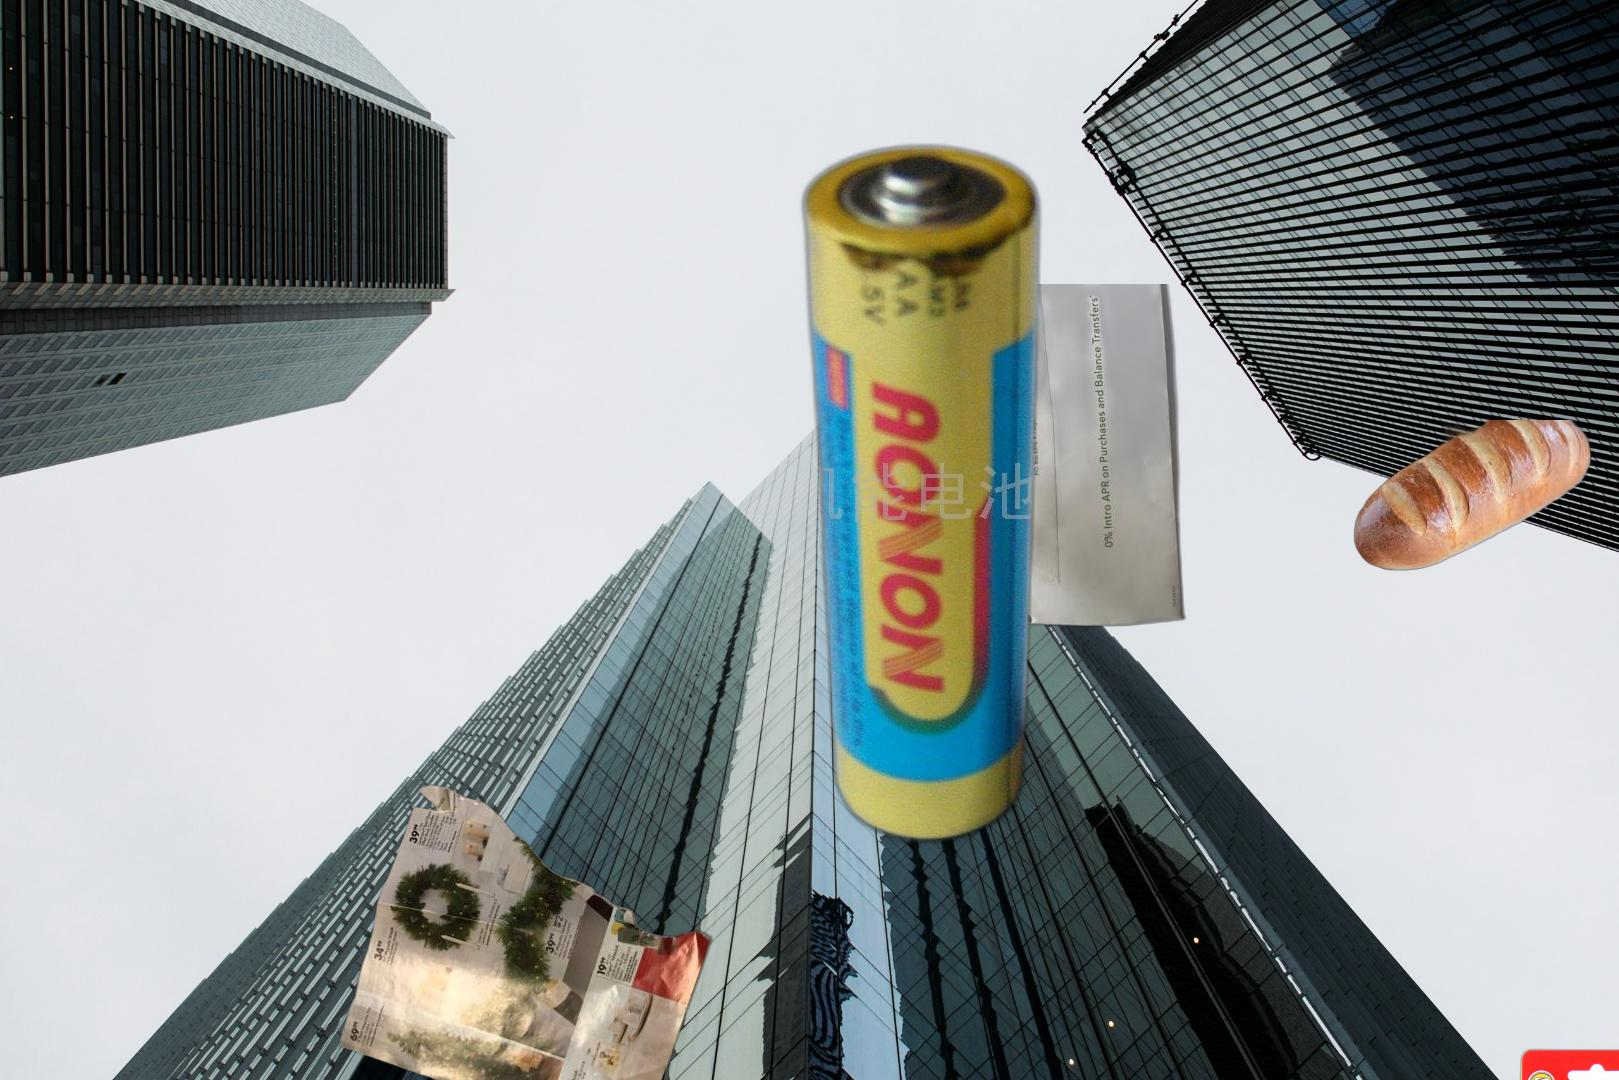battery: (794, 137, 1048, 852), (1517, 1047, 1619, 1080)
biological: (1353, 419, 1594, 573)
paper: (335, 781, 716, 1080), (954, 284, 1190, 630)
paper-bag: (485, 916, 694, 1080)
